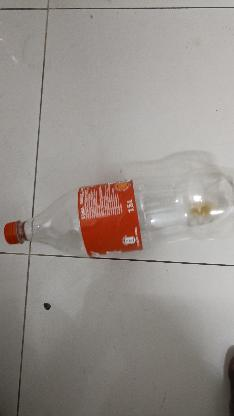Plastic Bottle: (1, 141, 234, 267)
